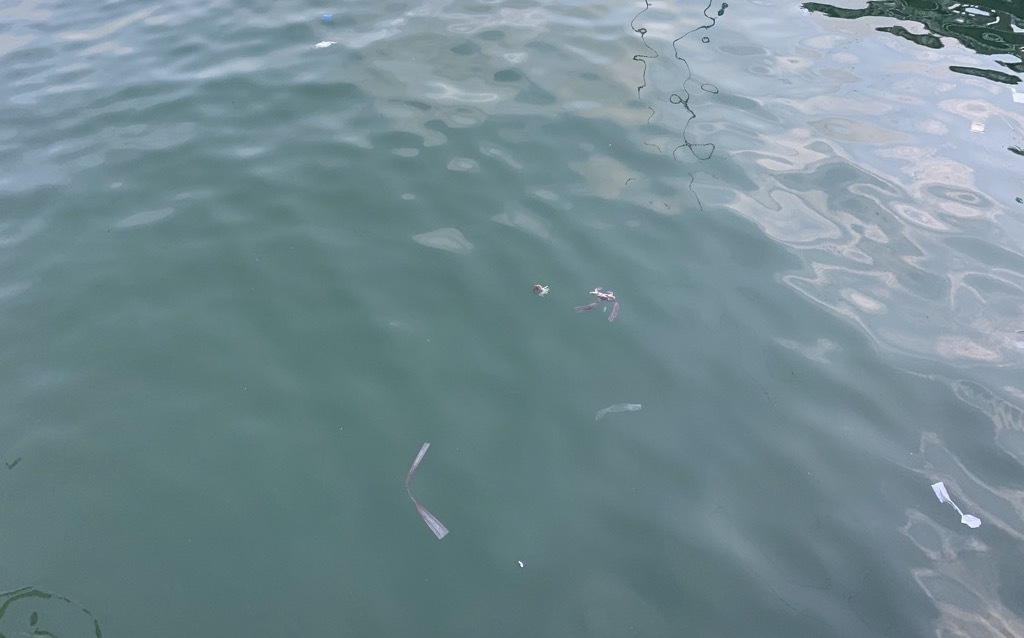plastic: (382, 431, 468, 551), (923, 470, 986, 539), (569, 272, 630, 337), (580, 395, 654, 428), (518, 264, 561, 314), (301, 31, 350, 63), (505, 549, 537, 578), (312, 7, 345, 32)
structure: (783, 1, 1024, 236), (616, 1, 738, 227), (1, 565, 111, 638)
